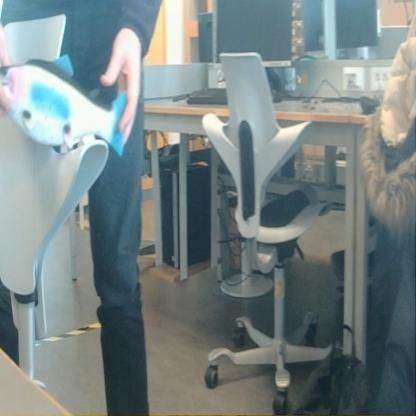rubberfish: (0, 50, 136, 164)
